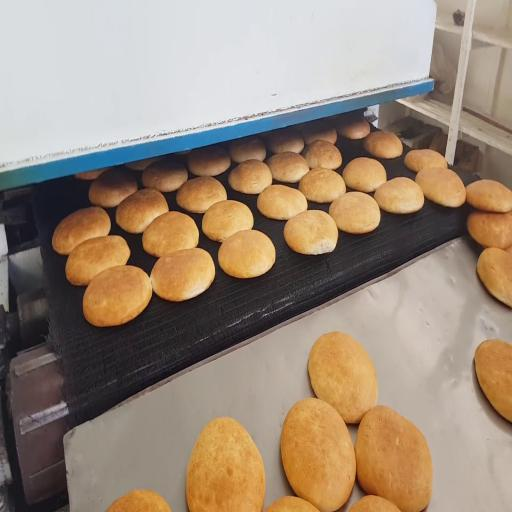bread: (281, 399, 355, 511), (355, 406, 433, 511), (186, 418, 265, 511), (308, 332, 377, 423), (83, 266, 152, 327), (151, 248, 215, 301), (66, 236, 130, 285), (475, 339, 511, 421), (52, 207, 110, 255), (218, 230, 275, 278), (143, 211, 199, 257), (284, 210, 338, 255), (116, 189, 168, 233), (329, 192, 380, 234), (202, 200, 253, 241), (477, 248, 511, 307), (415, 168, 465, 207), (89, 168, 137, 207), (374, 177, 424, 213), (176, 177, 226, 213), (467, 211, 512, 249), (257, 185, 307, 219), (299, 168, 345, 203), (343, 157, 386, 192), (229, 160, 272, 194), (142, 160, 187, 192), (466, 180, 511, 212), (187, 146, 231, 176), (107, 491, 171, 511), (267, 152, 309, 182), (303, 140, 341, 169), (364, 131, 402, 158), (405, 149, 447, 173), (228, 137, 266, 163), (267, 128, 304, 154), (299, 120, 337, 144), (349, 495, 399, 511), (266, 496, 318, 511), (336, 118, 370, 139), (126, 157, 162, 171), (75, 167, 110, 180), (175, 150, 191, 155), (507, 246, 511, 254)
